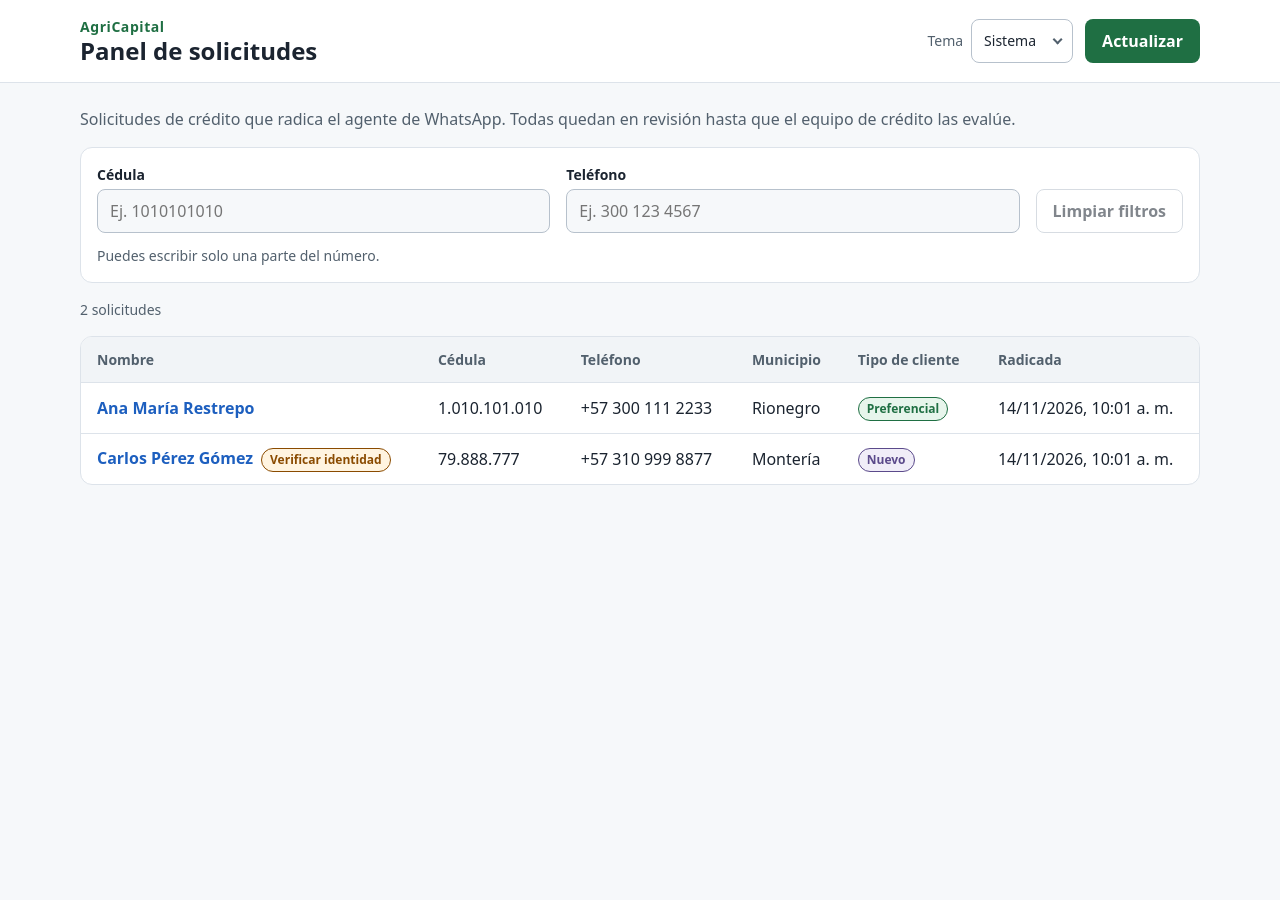
Test: Panel de solicitudes › abre el detalle con todos los datos al hacer clic en una fila y lo cierra
This screenshot has width=1280, height=900.
Later steps or results of the test are not shown.
Click the text "Montería": (640, 459) x1=81 y1=433 x2=1199 y2=484
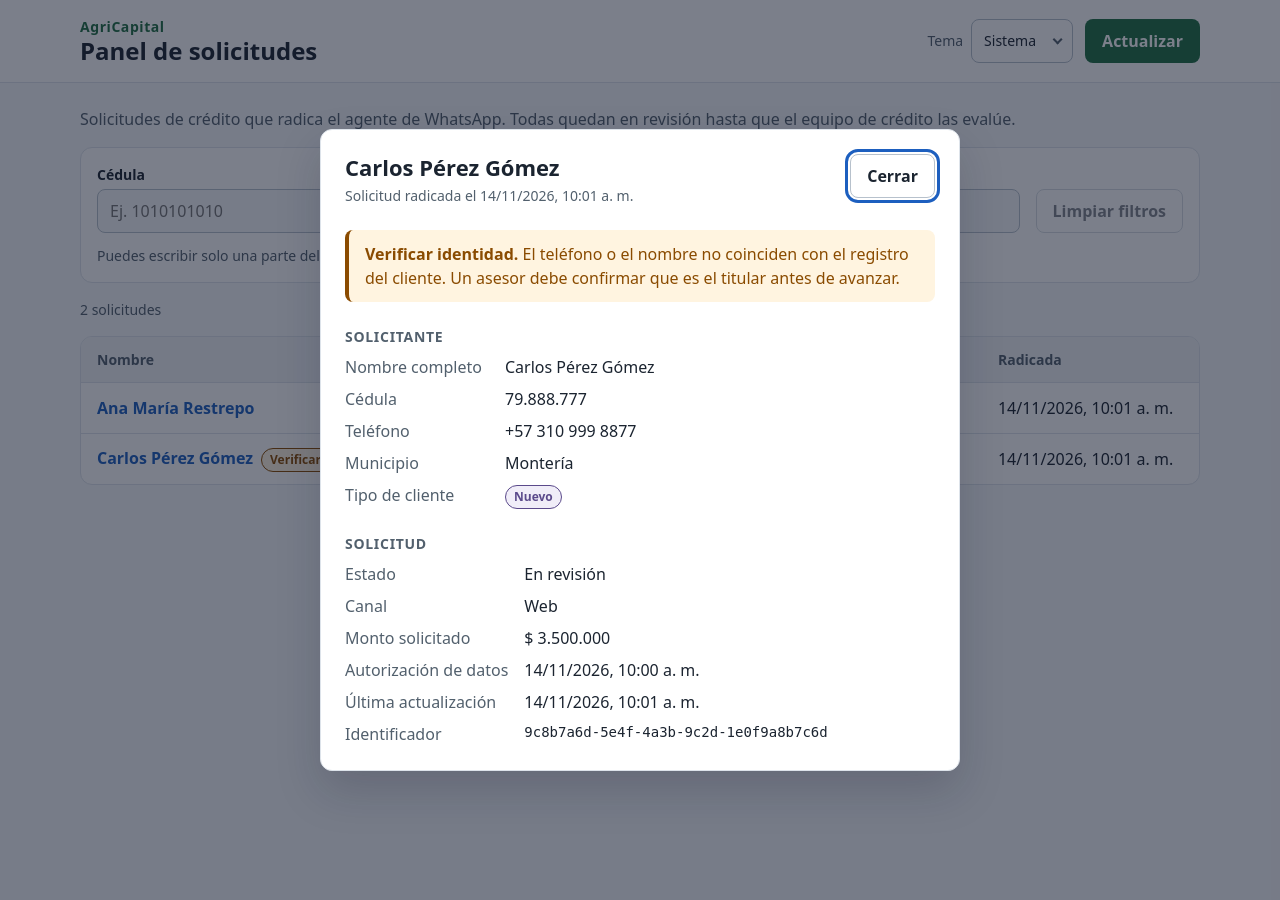
expect the text "79.888.777" is shown: met, box x1=505 y1=388 x2=587 y2=410
expect the text "+57 310 999 8877" is shown: met, box x1=505 y1=420 x2=636 y2=442
expect the text "Montería" is shown: met, box x1=505 y1=452 x2=574 y2=474
